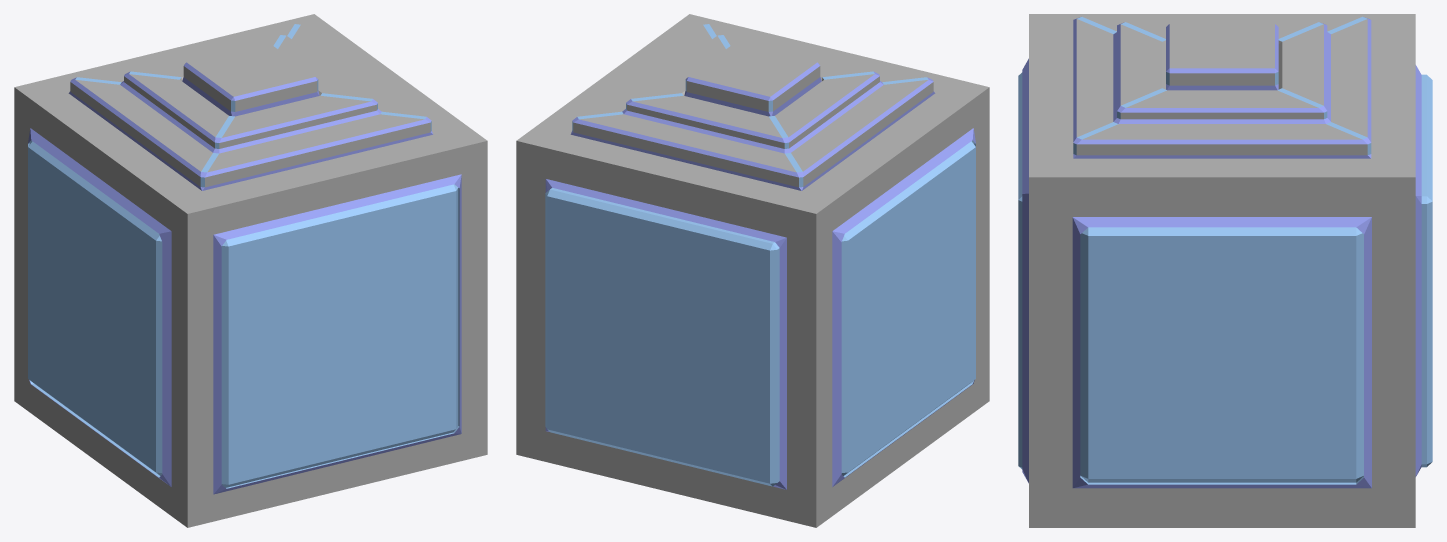
File: A_scrap_core_.fbx
3 views of the same model, side by side, from view 1: azimuth 30°, elevation 25°; view 2: azimuth 150°, elevation 25°; view 3: azimuth 270°, elevation 25° (orthographic). The views are drawn at different scales.
Visible parts, largest first — view 1: Cube; view 2: Cube; view 3: Cube.
Boxes of the visible parts, x1,y1,x2,y2 form: Cube: [14, 14, 487, 527]; Cube: [516, 14, 989, 527]; Cube: [1018, 14, 1432, 527].
Size of the model in its own units: 19.61 by 21.14 by 19.85.
